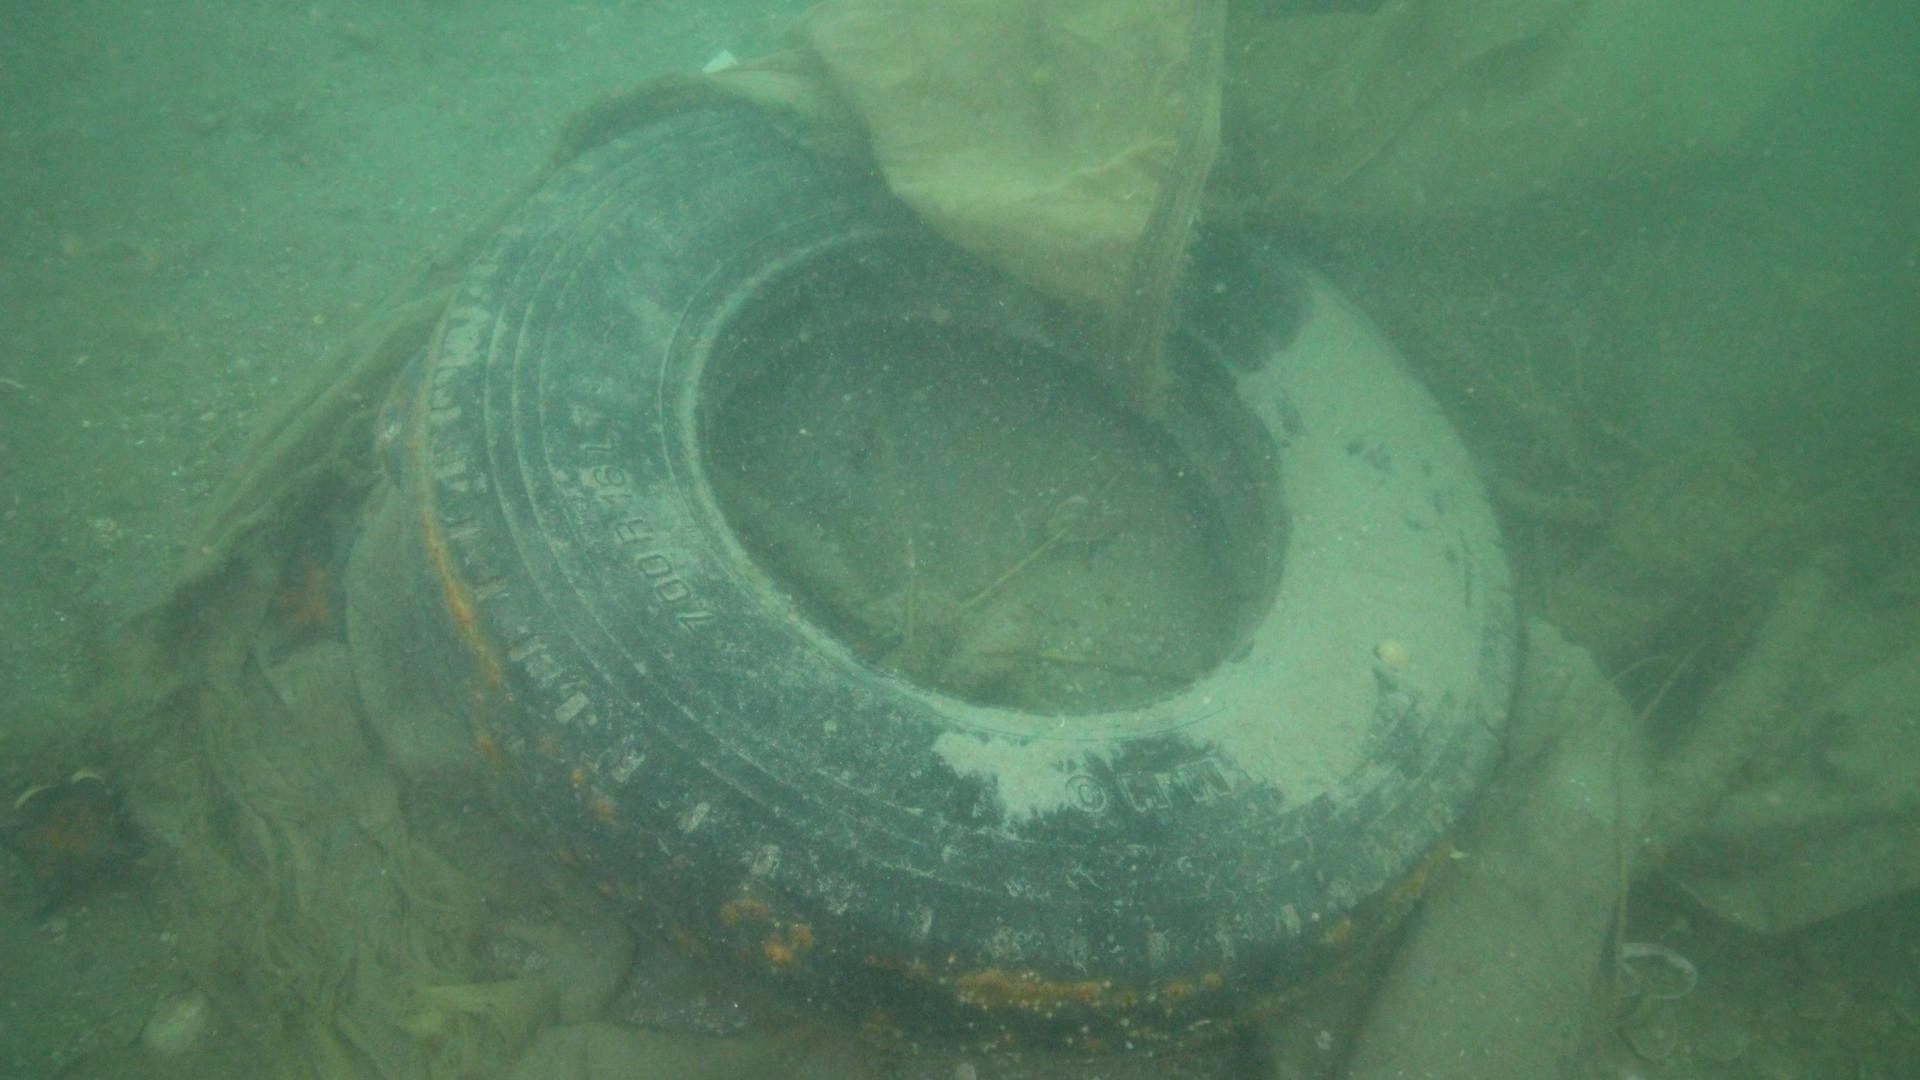tire: (407, 108, 1520, 1058)
